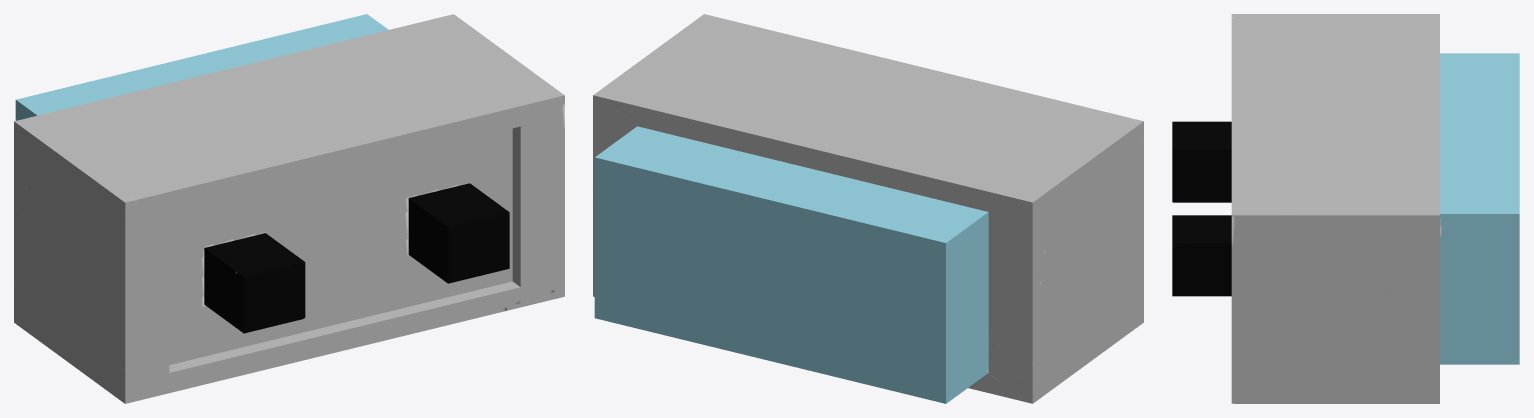
File: 그냥 이동속도 부스터.fbx
3 renders of one model, left to right at view 1: azimuth 30°, elevation 25°; view 2: azimuth 150°, elevation 25°; view 3: azimuth 270°, elevation 25°, orthographic. The views are drawn at different scales.
Visible parts, largest first — view 1: Box001; view 2: Box001; view 3: Box001.
Boxes of the visible parts, x1,y1,x2,y2 form: Box001: (14, 14, 564, 403); Box001: (593, 14, 1143, 403); Box001: (1172, 14, 1519, 403).
Bounding box in the file's own units: 0.0139 × 0.0101 × 0.00607.
